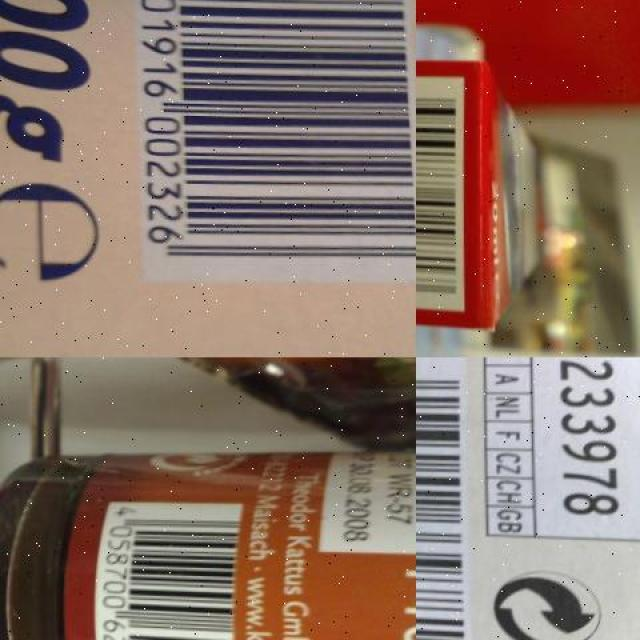Barcode: (139, 0, 416, 284), (88, 494, 244, 640), (416, 357, 472, 640), (416, 68, 465, 307)
